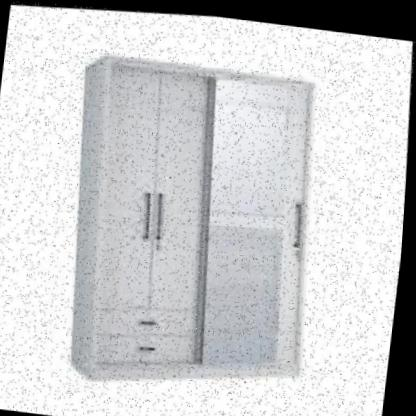Closet: (47, 31, 344, 407)
